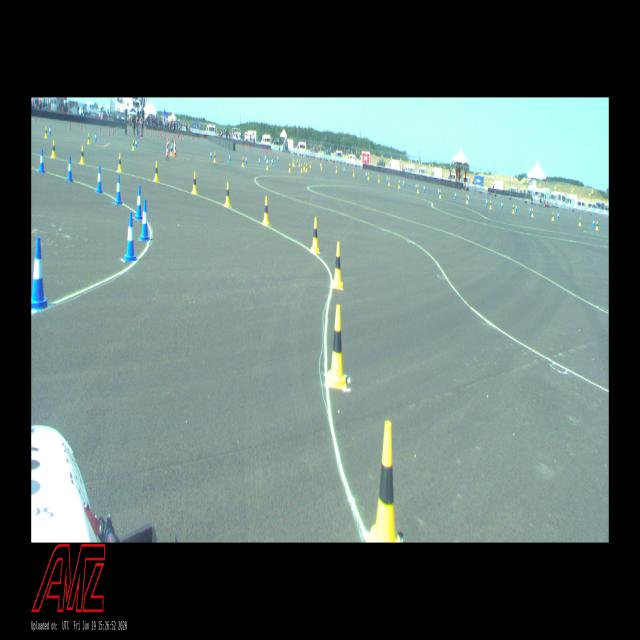blue_cone: (31, 236, 52, 311), (123, 213, 137, 262), (139, 198, 150, 241), (134, 186, 143, 220), (113, 175, 123, 205), (95, 164, 104, 194), (38, 148, 46, 173), (66, 155, 73, 182), (228, 152, 231, 163), (94, 132, 97, 142), (135, 139, 138, 148), (592, 218, 595, 227), (49, 124, 51, 136), (210, 149, 212, 159), (245, 155, 247, 165), (258, 156, 260, 166), (454, 190, 456, 200), (501, 200, 503, 210), (272, 157, 274, 166), (423, 184, 425, 193), (468, 194, 470, 203), (557, 211, 559, 220), (366, 170, 368, 178), (386, 175, 388, 183), (415, 182, 417, 190), (486, 198, 488, 206), (515, 204, 517, 212), (529, 206, 531, 214), (264, 155, 266, 162), (277, 155, 279, 162), (296, 158, 298, 165), (343, 166, 345, 173), (402, 179, 404, 186), (438, 188, 440, 195), (136, 132, 138, 137), (320, 161, 321, 169)
large_orange_cone: (166, 139, 168, 155), (174, 140, 176, 156), (168, 137, 170, 152)
orange_cone: (100, 124, 102, 133), (69, 122, 71, 130), (108, 128, 110, 136), (114, 127, 116, 135), (34, 116, 36, 123), (80, 123, 82, 130), (112, 128, 114, 135), (140, 131, 142, 138), (150, 131, 152, 138), (157, 132, 159, 138), (138, 133, 139, 139), (164, 134, 165, 140), (181, 136, 182, 142), (163, 130, 164, 136), (178, 132, 179, 138), (161, 133, 162, 138), (174, 134, 175, 139), (160, 132, 160, 137)
yellow_cone: (368, 420, 401, 542), (326, 303, 347, 390), (331, 241, 343, 290), (310, 215, 320, 254), (262, 195, 271, 227), (224, 181, 231, 208), (191, 170, 198, 196), (116, 152, 122, 174), (153, 161, 159, 182), (79, 146, 85, 164), (51, 139, 56, 159), (44, 125, 48, 138), (213, 150, 217, 163), (87, 131, 90, 144), (288, 162, 291, 173), (132, 140, 135, 150), (266, 160, 269, 170), (531, 208, 534, 218), (489, 200, 492, 209), (170, 144, 172, 157), (242, 156, 244, 167), (512, 203, 514, 214), (439, 189, 441, 199), (552, 211, 554, 221), (579, 216, 581, 226), (596, 220, 598, 230), (303, 162, 305, 171), (306, 163, 308, 172), (352, 168, 354, 177), (368, 172, 370, 181), (388, 177, 390, 186), (417, 184, 419, 193), (466, 195, 468, 204), (293, 159, 295, 167), (298, 159, 300, 167), (300, 164, 302, 172), (398, 180, 400, 188), (310, 161, 312, 168), (320, 163, 322, 170), (336, 166, 338, 173), (378, 175, 380, 182)
